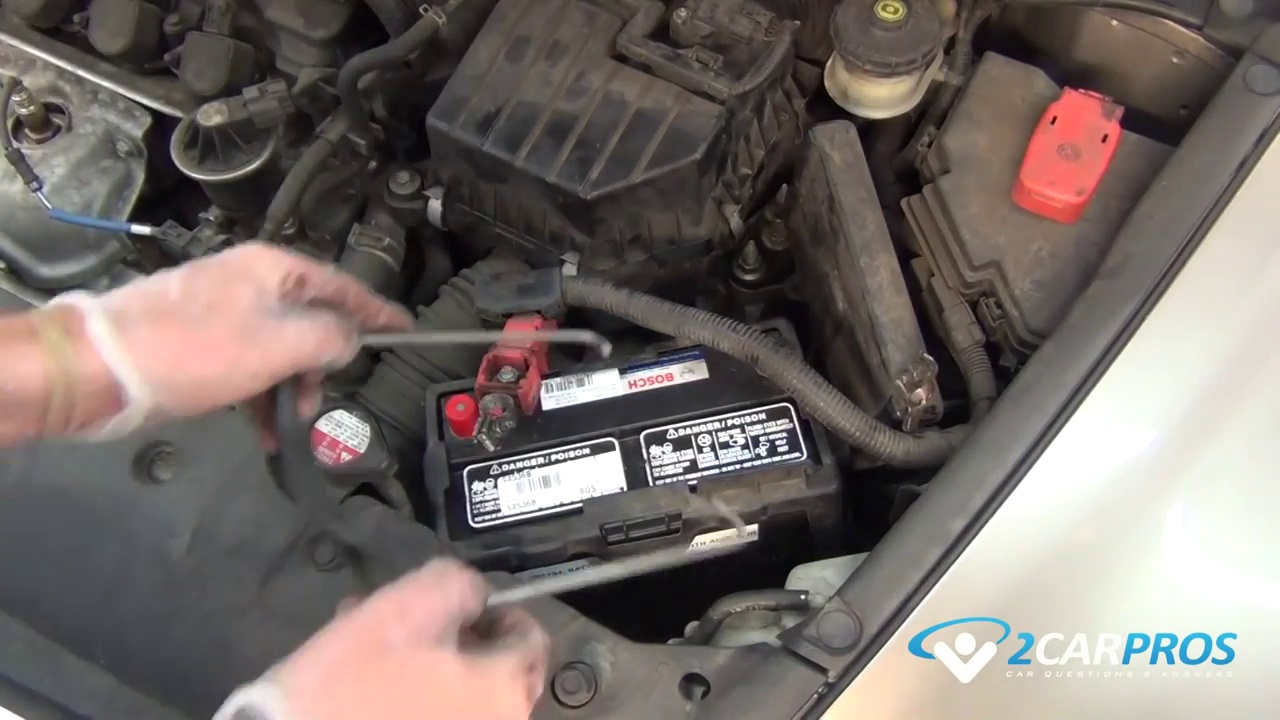battery: (421, 317, 806, 580)
pos_disconnected: (427, 305, 564, 466)
